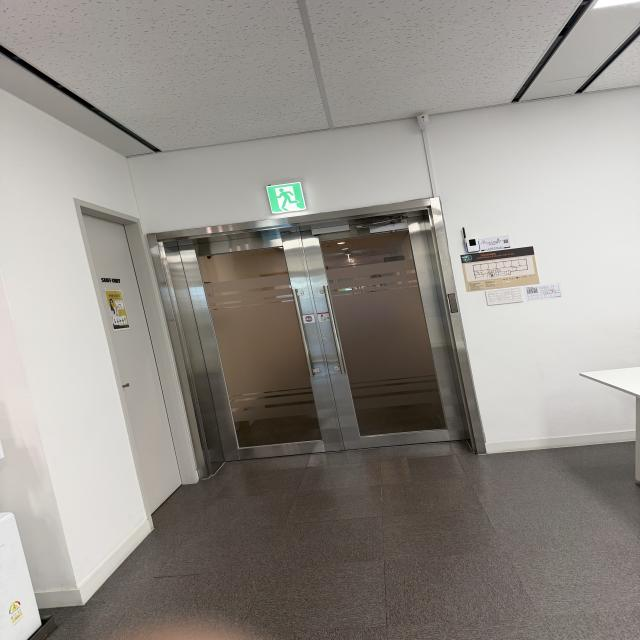rear_door: (157, 207, 469, 461)
